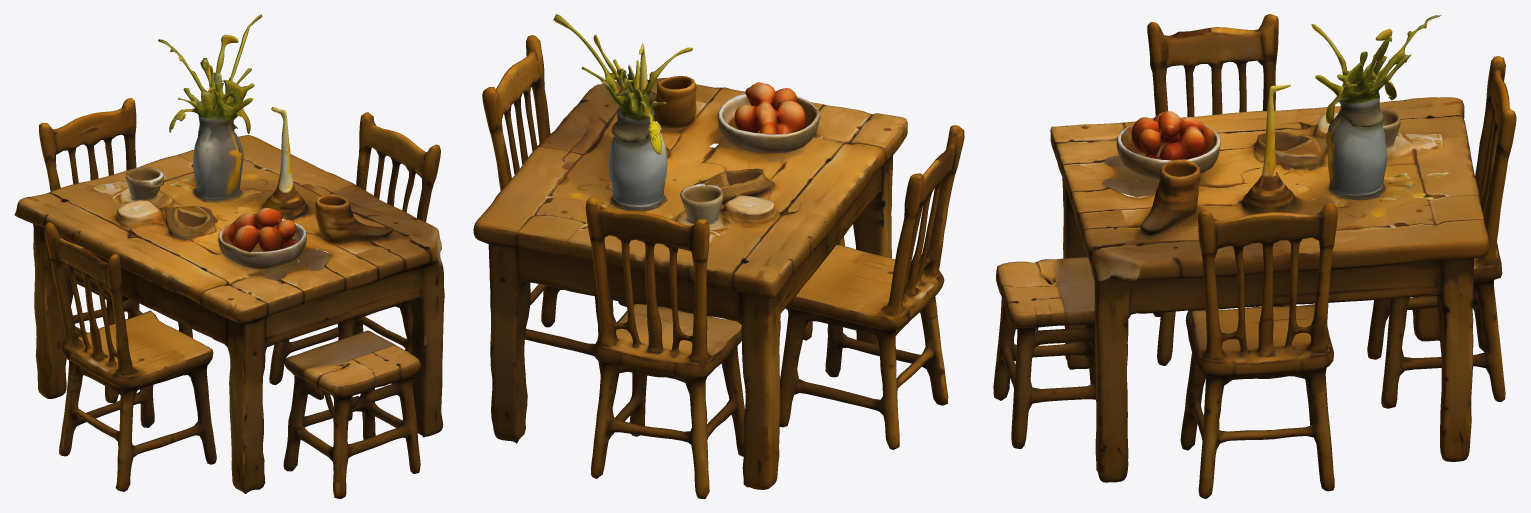
The model's file is dining-table.glb.
The picture shows the model from 3 angles, left to right: view 1: azimuth 30°, elevation 25°; view 2: azimuth 150°, elevation 25°; view 3: azimuth 270°, elevation 25°; orthographic projection. The views are drawn at different scales.
Parts seen in each view (by area): view 1: tripo_node_d0622815; view 2: tripo_node_d0622815; view 3: tripo_node_d0622815.
Part boxes in pixels (box(x1,y1,x2,y2)): tripo_node_d0622815: box(14, 14, 444, 498); tripo_node_d0622815: box(473, 14, 964, 498); tripo_node_d0622815: box(993, 14, 1516, 498).
Size of the model in its own units: 94.17 by 85.62 by 97.13.
Materials: 1 (1 with a texture image).
